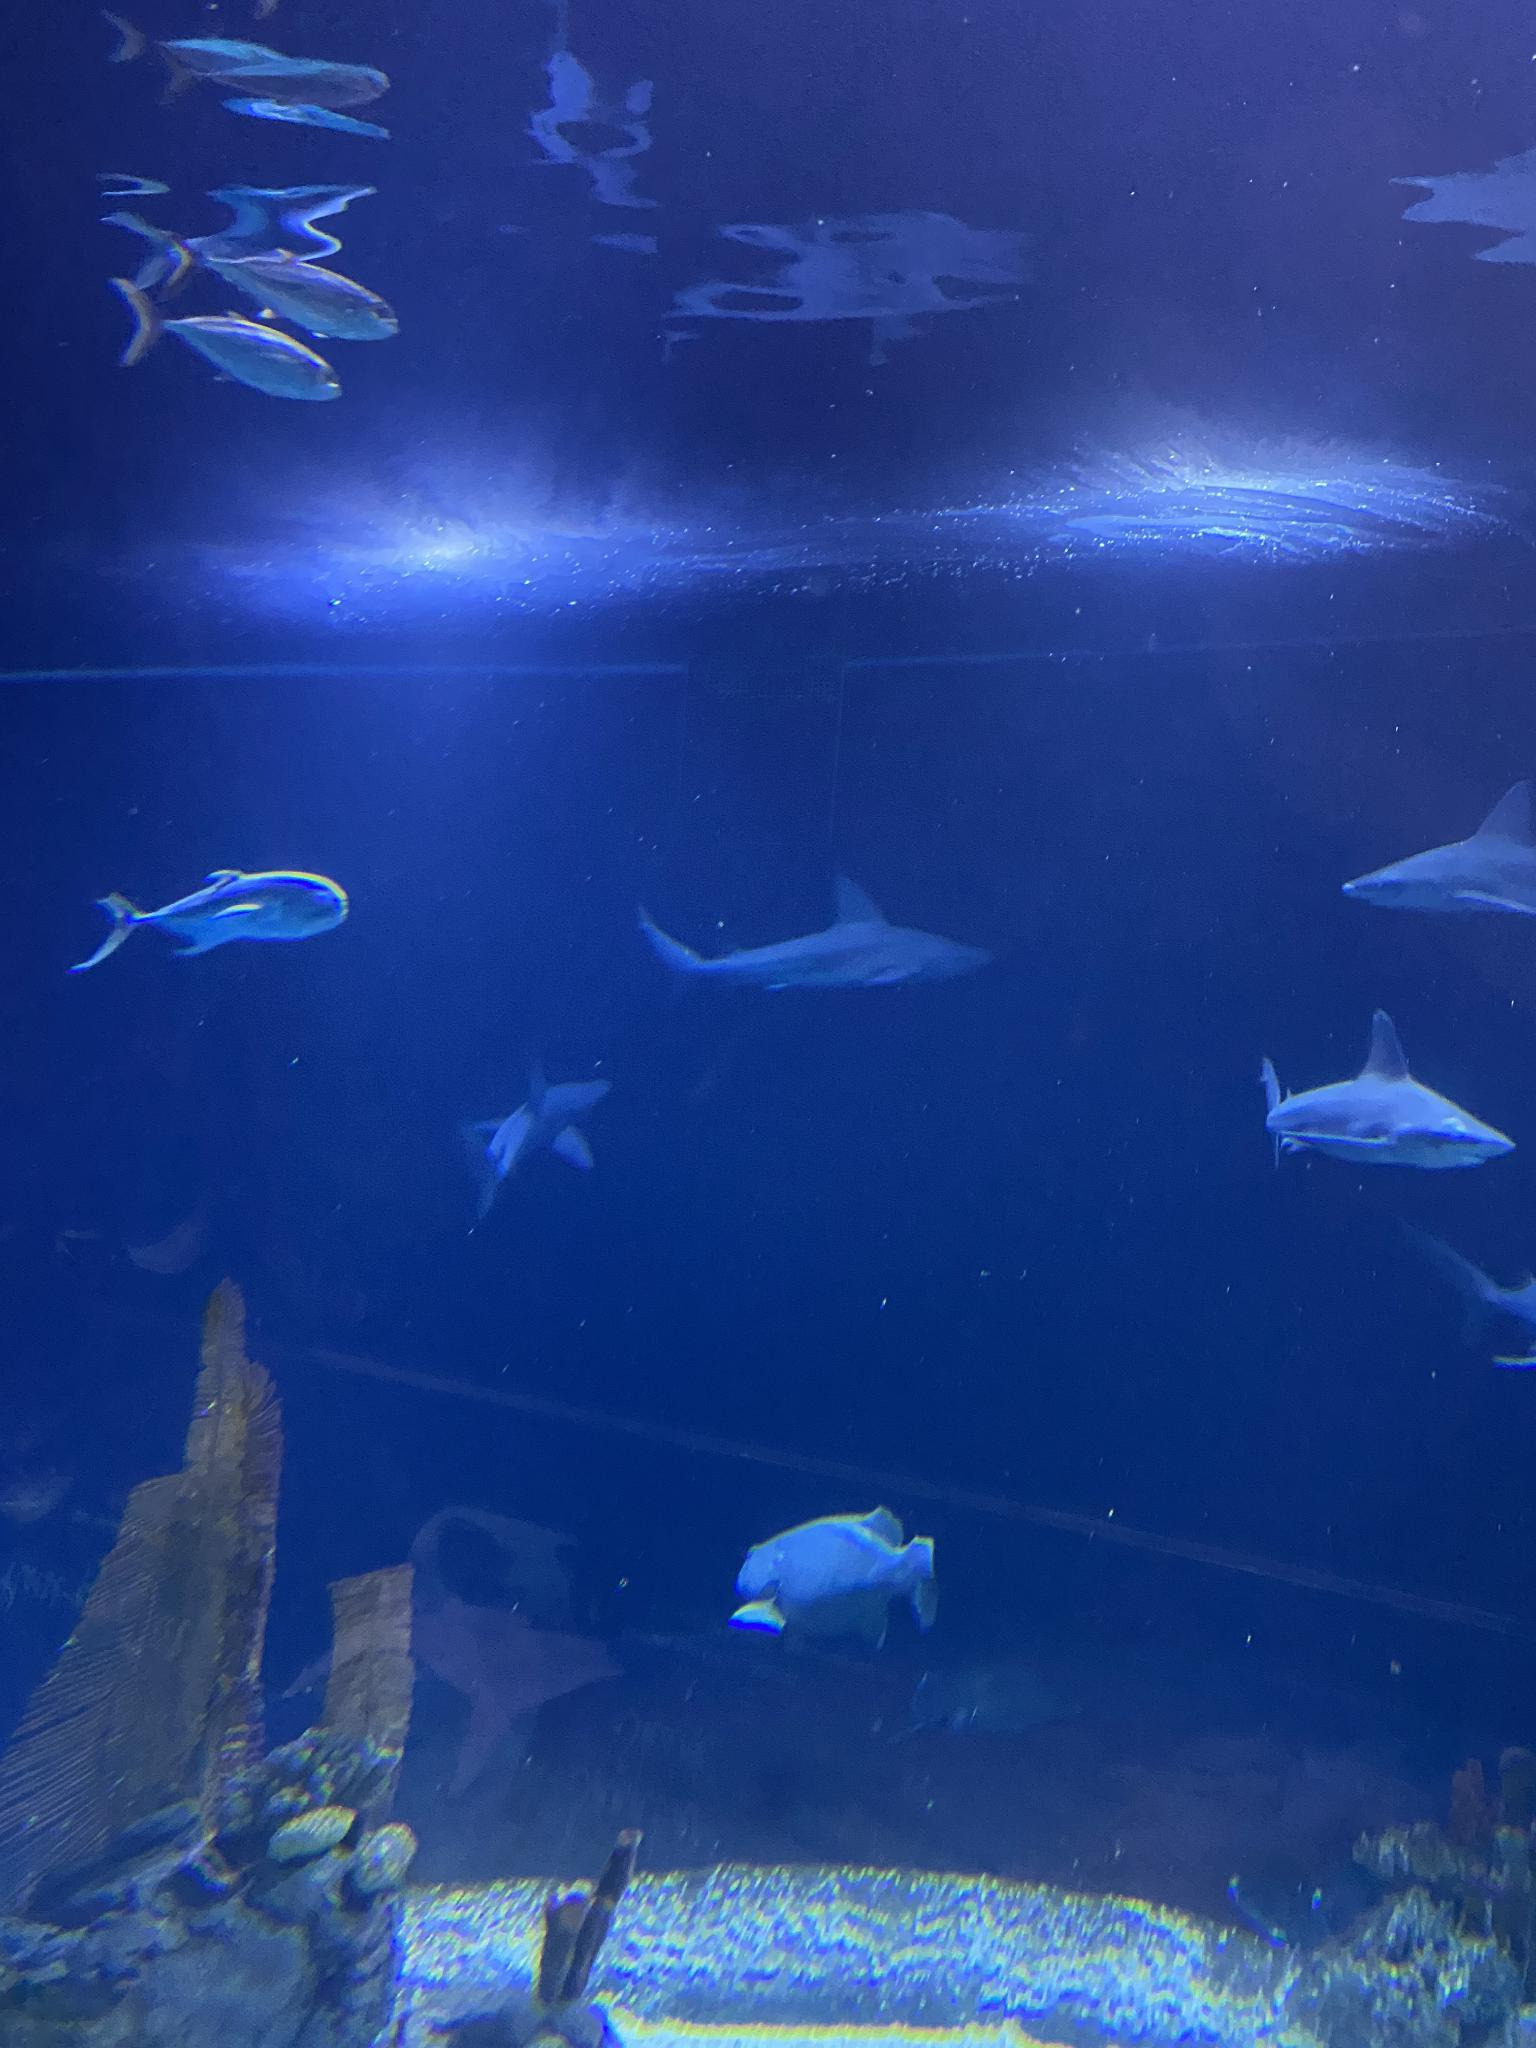fish: (726, 1508, 939, 1655), (116, 279, 340, 405), (76, 871, 352, 971), (153, 235, 399, 345)
shark: (637, 877, 984, 993), (1262, 1013, 1512, 1172), (1346, 776, 1534, 926), (465, 1064, 602, 1213), (1407, 1221, 1536, 1372)
